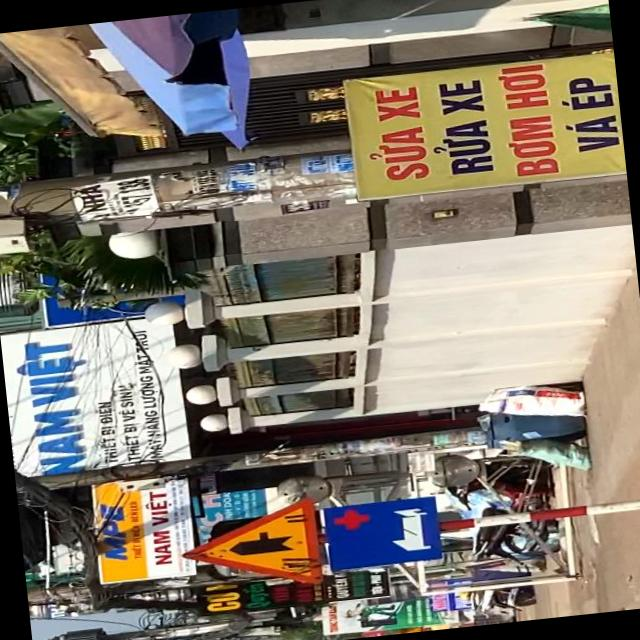I-425: (321, 492, 443, 566)
W-207b: (178, 494, 323, 596)
